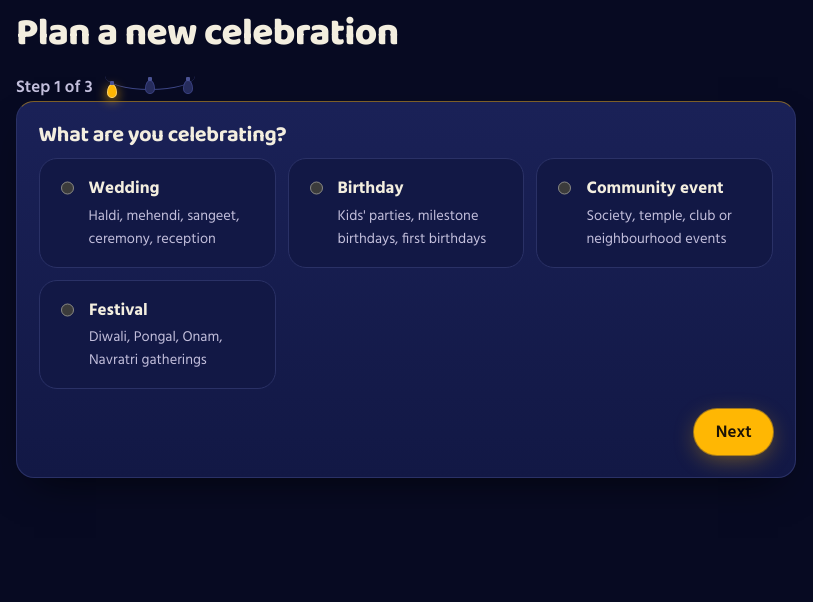
Test: Wizard › preselects the five wedding functions
Click the radio button labelled "Wedding Haldi, mehendi, sangeet, ceremony, reception": click(67, 188) [61,178,74,198]
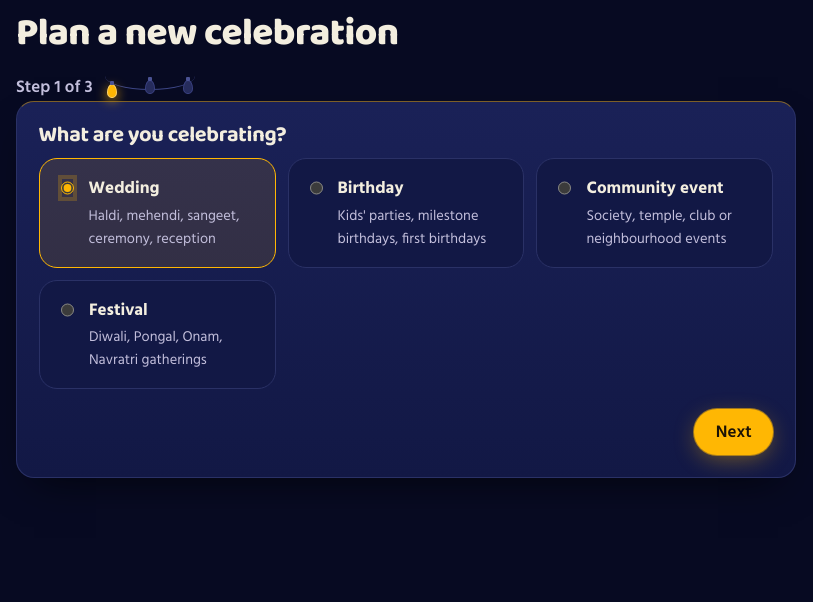
Click the button "Next": click(734, 432) [694,409,773,455]
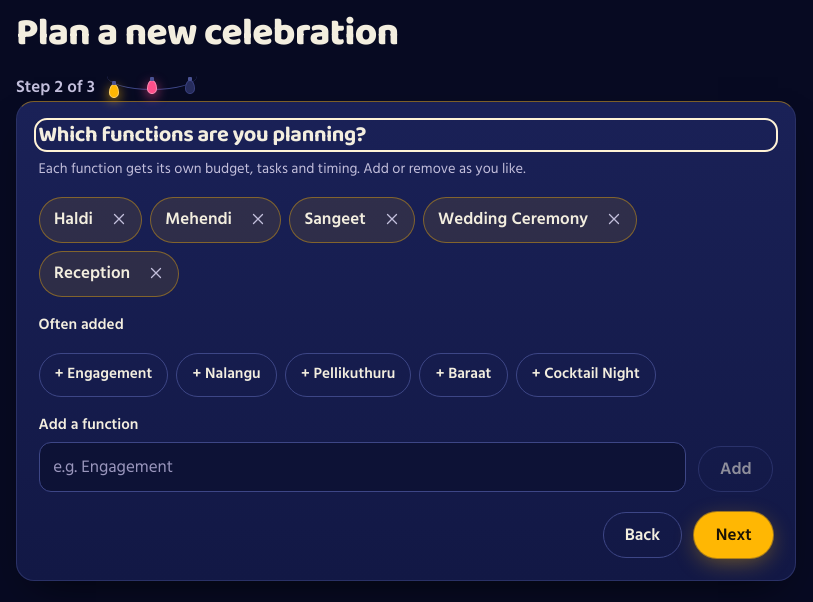
Expected: the text "Sangeet" is shown, [304,206,366,234]
Expected: the number of list items is 5, [39,197,142,243]; [150,197,281,243]; [289,197,415,243]; [423,197,637,243]; [39,251,179,297]
